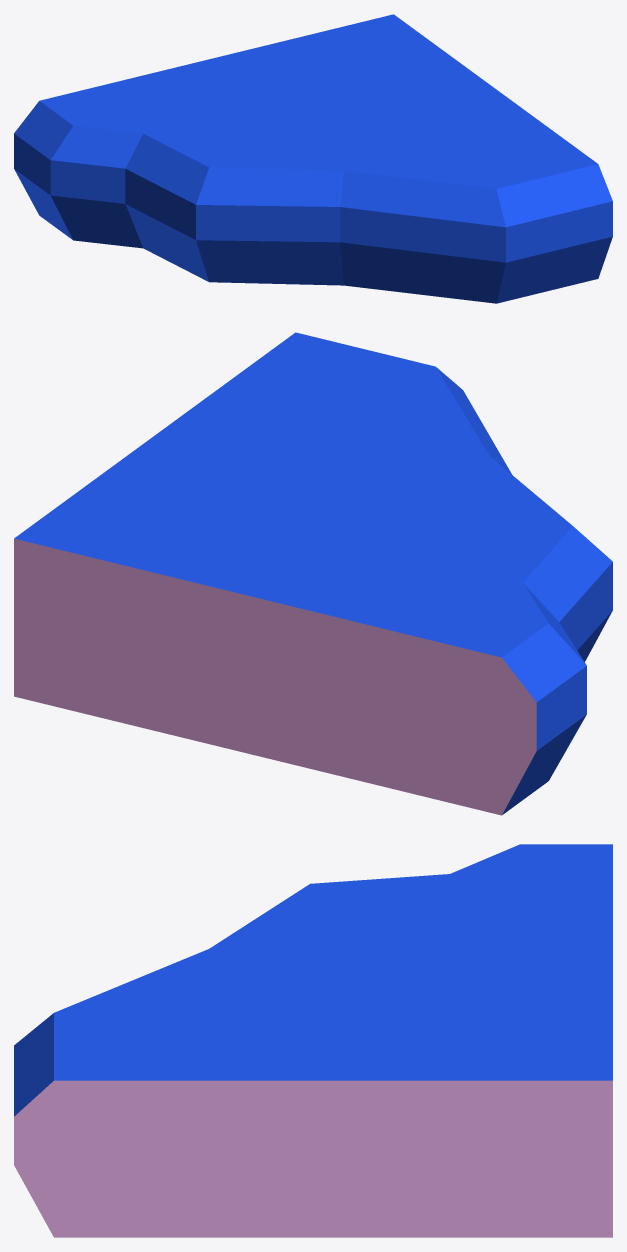
The model's file is Iceberg_Curve_Outer_2x2_1.glb.
3 renders of one model, top to bottom at view 1: azimuth 30°, elevation 25°; view 2: azimuth 150°, elevation 25°; view 3: azimuth 270°, elevation 25°, orthographic. The views are drawn at different scales.
Parts seen in each view (by area): view 1: Iceberg_Curve_Outer_2x2_1; view 2: Iceberg_Curve_Outer_2x2_1; view 3: Iceberg_Curve_Outer_2x2_1.
Boxes of the visible parts, box(x1,y1,x2,y2) form: Iceberg_Curve_Outer_2x2_1: box(14, 14, 612, 303); Iceberg_Curve_Outer_2x2_1: box(14, 332, 612, 815); Iceberg_Curve_Outer_2x2_1: box(14, 844, 612, 1237).
Bounding box in the file's own units: 141 × 40.63 × 141.
